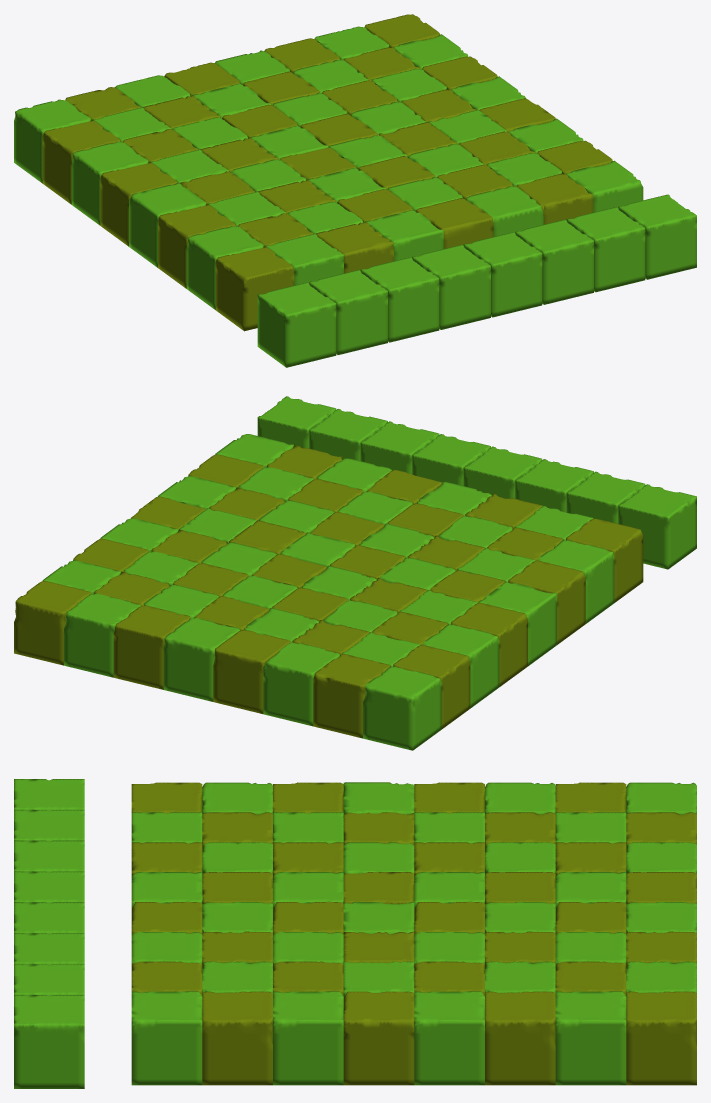
The model's file is qipan d.FBX.
3 views of the same model, one above another, from view 1: azimuth 30°, elevation 25°; view 2: azimuth 150°, elevation 25°; view 3: azimuth 270°, elevation 25° (orthographic). The views are drawn at different scales.
Visible parts, largest first — view 1: Box133, Box100, Box127, Box129, Box130, Box131, Box126, Box128, Box132, Box075, Box124, Box109 (+60 smaller); view 2: Box084, Box133, Box083, Box082, Box079, Box078, Box085, Box081, Box080, Box100, Box074, Box116 (+60 smaller); view 3: Box077, Box101, Box108, Box093, Box117, Box076, Box085, Box125, Box132, Box129, Box128, Box130 (+60 smaller).
Boxes of the visible parts, x1,y1,x2,y2 form: Box133: [257, 282, 336, 367]; Box100: [215, 247, 294, 331]; Box127: [360, 257, 439, 342]; Box129: [463, 232, 542, 317]; Box130: [515, 219, 593, 304]; Box131: [566, 207, 645, 292]; Box126: [309, 270, 387, 354]; Box128: [412, 245, 490, 329]; Box132: [618, 194, 696, 279]; Box075: [71, 141, 148, 225]; Box124: [186, 226, 263, 309]; Box109: [129, 182, 206, 267]; Box084: [363, 666, 441, 750]; Box133: [618, 484, 696, 569]; Box083: [213, 630, 290, 713]; Box082: [313, 654, 390, 738]; Box079: [113, 605, 190, 689]; Box078: [163, 618, 240, 701]; Box085: [14, 581, 91, 665]; Box081: [263, 643, 339, 726]; Box080: [64, 593, 140, 677]; Box100: [566, 518, 643, 602]; Box074: [393, 645, 470, 729]; Box116: [508, 560, 585, 644]; Box077: [555, 991, 626, 1085]; Box101: [131, 991, 202, 1085]; Box108: [343, 991, 414, 1085]; Box093: [414, 991, 484, 1085]; Box117: [273, 991, 343, 1085]; Box076: [485, 991, 555, 1085]; Box085: [626, 991, 696, 1085]; Box125: [202, 991, 272, 1085]; Box132: [14, 995, 84, 1088]; Box129: [14, 902, 84, 934]; Box128: [14, 871, 84, 903]; Box130: [14, 933, 84, 965].
Size of the model in its own units: 494 by 60.51 by 580.
